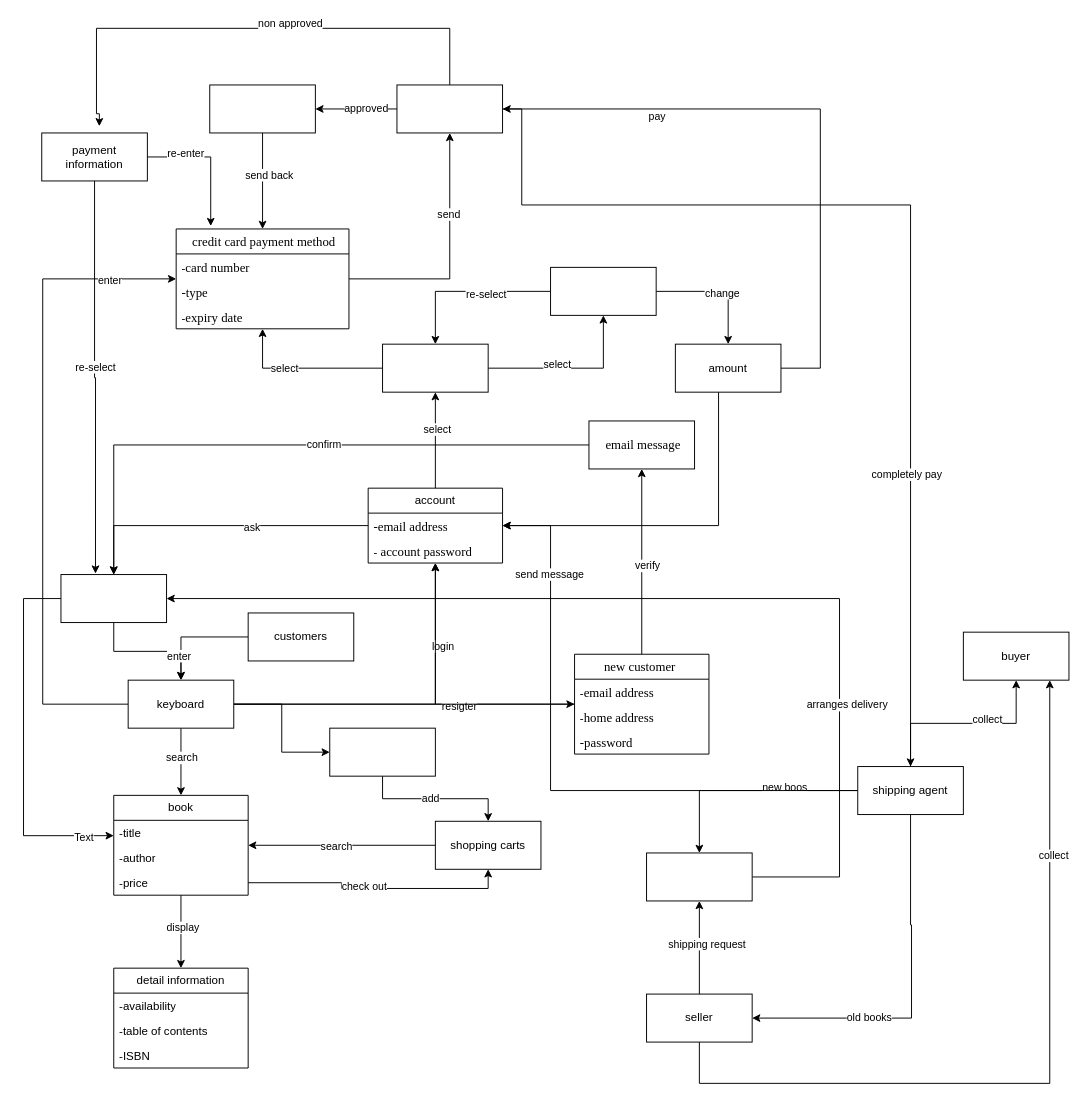
The diagram is 1086 pixels wide and 1108 high, and some of its shapes have lost their labels. Each missing label, with the centre of its shape:
"approval code" belongs at point (262, 108).
"book store" belongs at point (699, 876).
"copy of book" belongs at point (382, 751).
"payment gateway" belongs at point (449, 108).
"payment with sufficient balance" belongs at point (603, 290).
"public user" belongs at point (113, 598).
"shipping option" belongs at point (435, 367).
